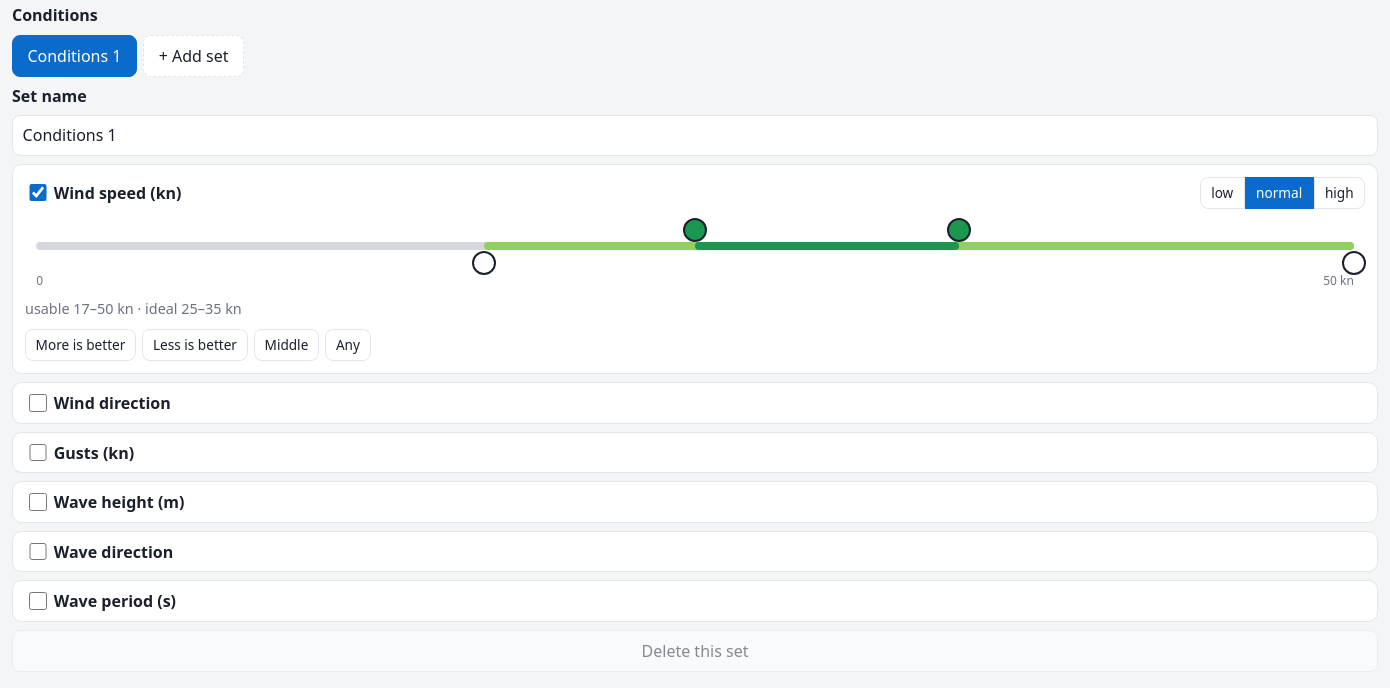
Test: SpotEditor › words the hint for waves on the wave direction dial
The image size is (1390, 688).
(page scrolled)
Click the checkbox labelled "Wave direction" at (38, 552), box x1=29 y1=543 x2=47 y2=560
(page scrolled)
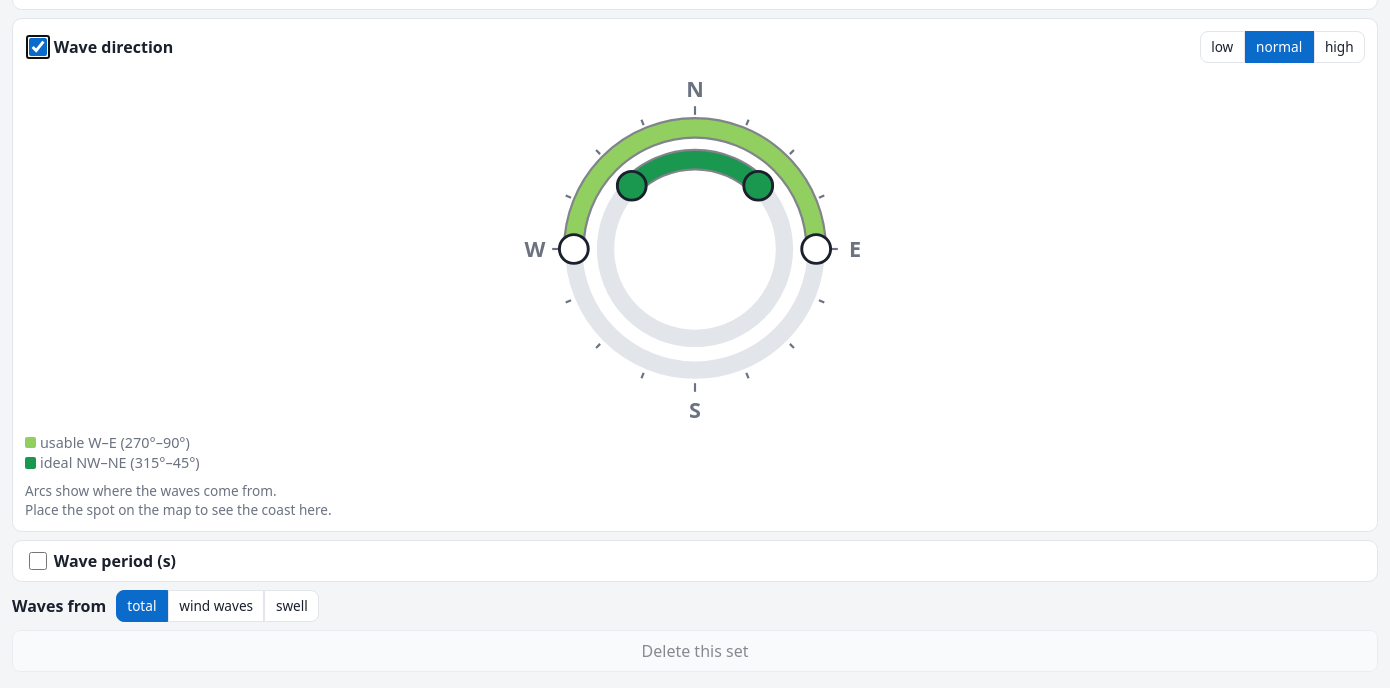
expect the text "Arcs show where the waves come from." is shown: met, box x1=25 y1=481 x2=332 y2=519
